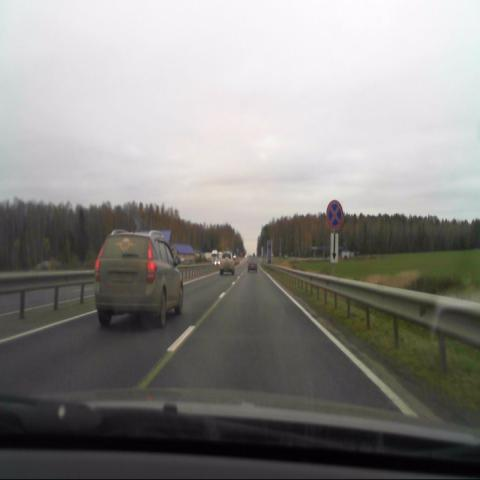3_27: (326, 200, 344, 231)
8_2_3: (330, 233, 339, 264)
